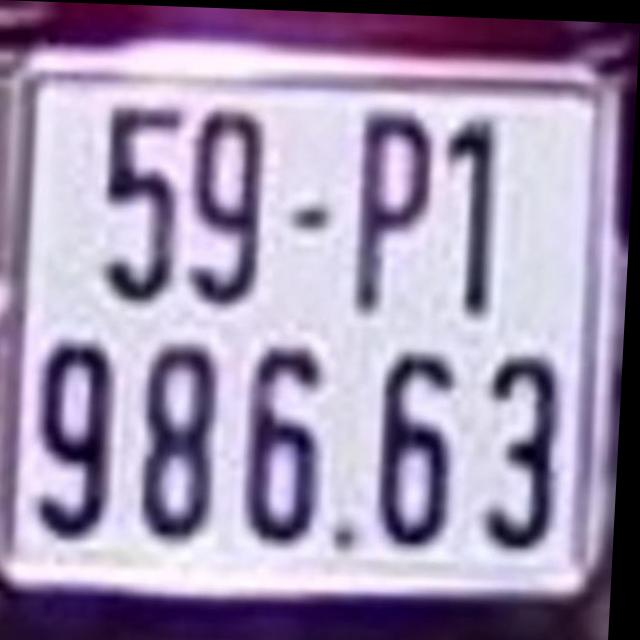1: (446, 111, 508, 308)
3: (489, 349, 565, 547)
5: (98, 102, 183, 296)
6: (242, 342, 334, 535), (381, 346, 466, 544)
8: (143, 343, 232, 540)
9: (184, 102, 271, 304), (37, 340, 115, 541)
P: (347, 107, 434, 310)
